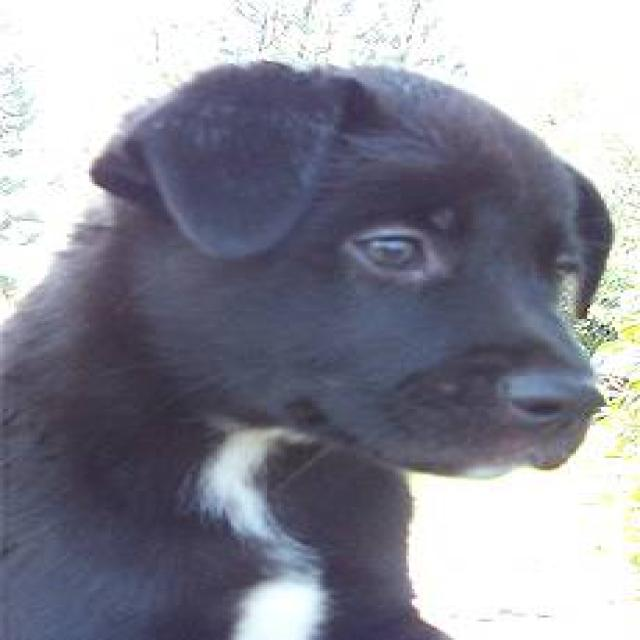dog: (0, 57, 615, 638)
